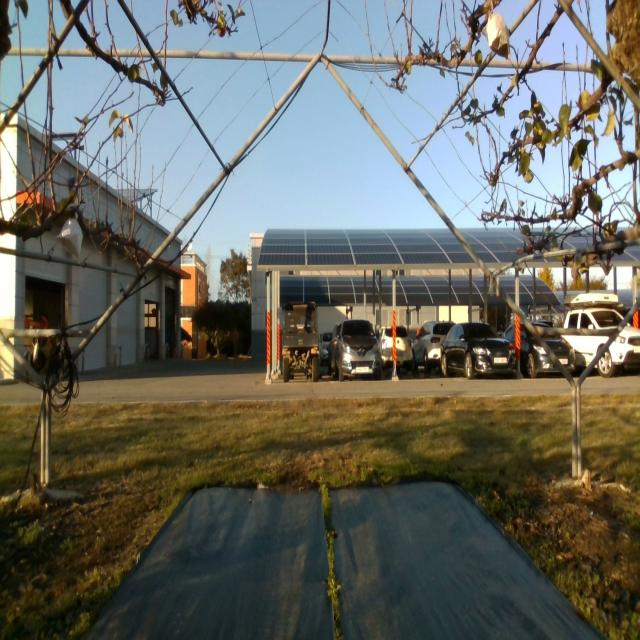pearbags: (54, 213, 84, 264), (486, 0, 511, 60)
